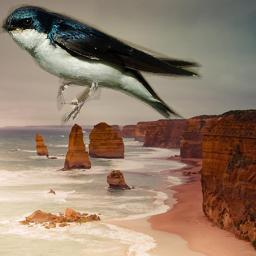Swallow: (0, 4, 209, 128)
